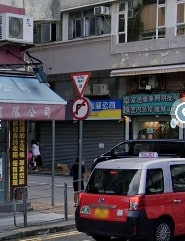Give Way: (69, 71, 91, 95)
No Turn Right: (71, 98, 90, 118)
